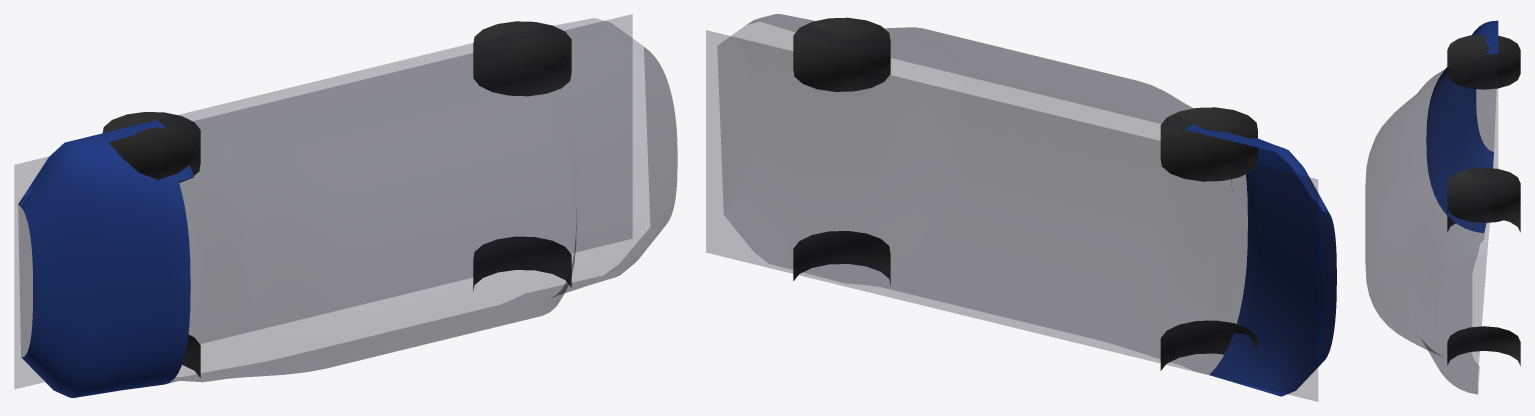
Rendered from car_model.obj.
The picture shows the model from 3 angles, left to right: view 1: azimuth 30°, elevation 25°; view 2: azimuth 150°, elevation 25°; view 3: azimuth 270°, elevation 25°; orthographic projection. The views are drawn at different scales.
Size of the model in its own units: 4.75 by 1.85 by 1.4.
